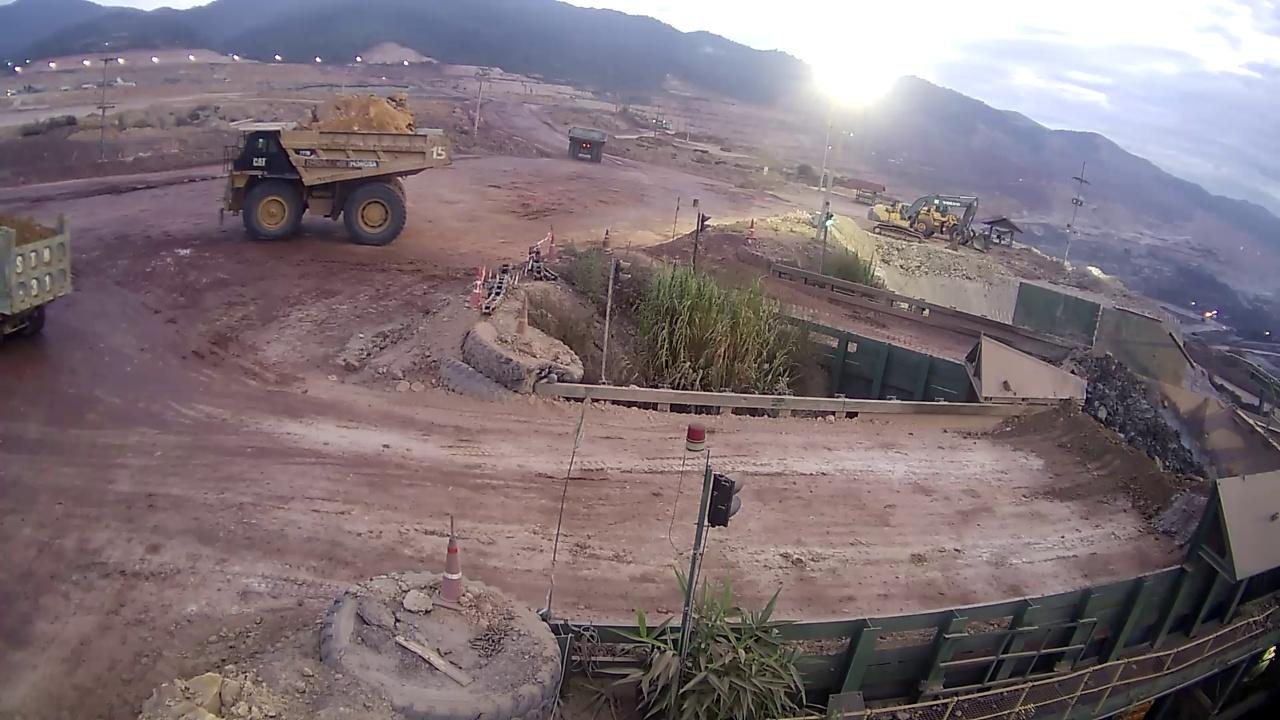full_load: (278, 80, 414, 136)
mining_truck: (207, 77, 466, 244)
tail_number: (429, 139, 451, 167)
